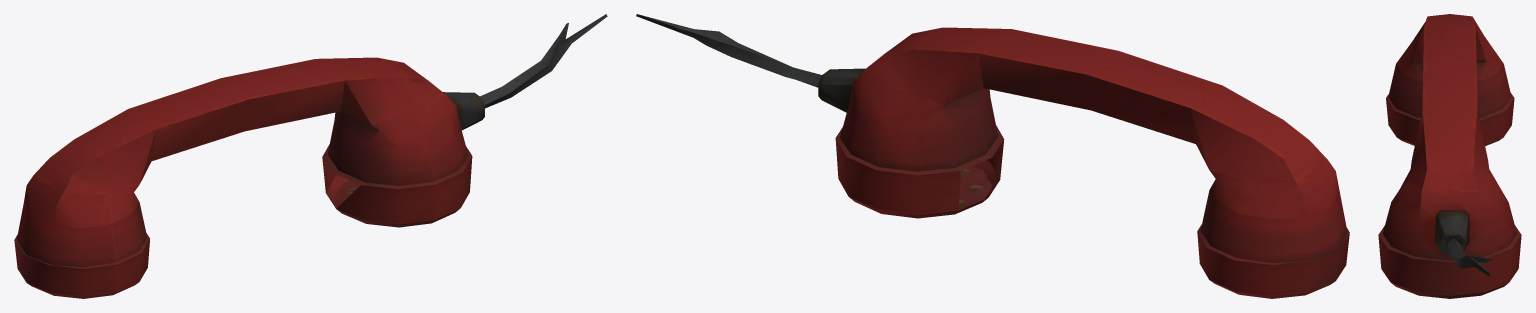
Rendered from telephone.obj.
The picture shows the model from 3 angles, left to right: view 1: azimuth 30°, elevation 25°; view 2: azimuth 150°, elevation 25°; view 3: azimuth 270°, elevation 25°; orthographic projection. The views are drawn at different scales.
Parts seen in each view (by area): view 1: Phone.001; view 2: Phone.001; view 3: Phone.001.
Boxes of the visible parts, x1,y1,x2,y2 form: Phone.001: (14,14,607,298); Phone.001: (636,14,1349,298); Phone.001: (1378,14,1521,298).
Size of the model in its own units: 16.82 by 4.09 by 3.72.
1 material, 1 textured.
